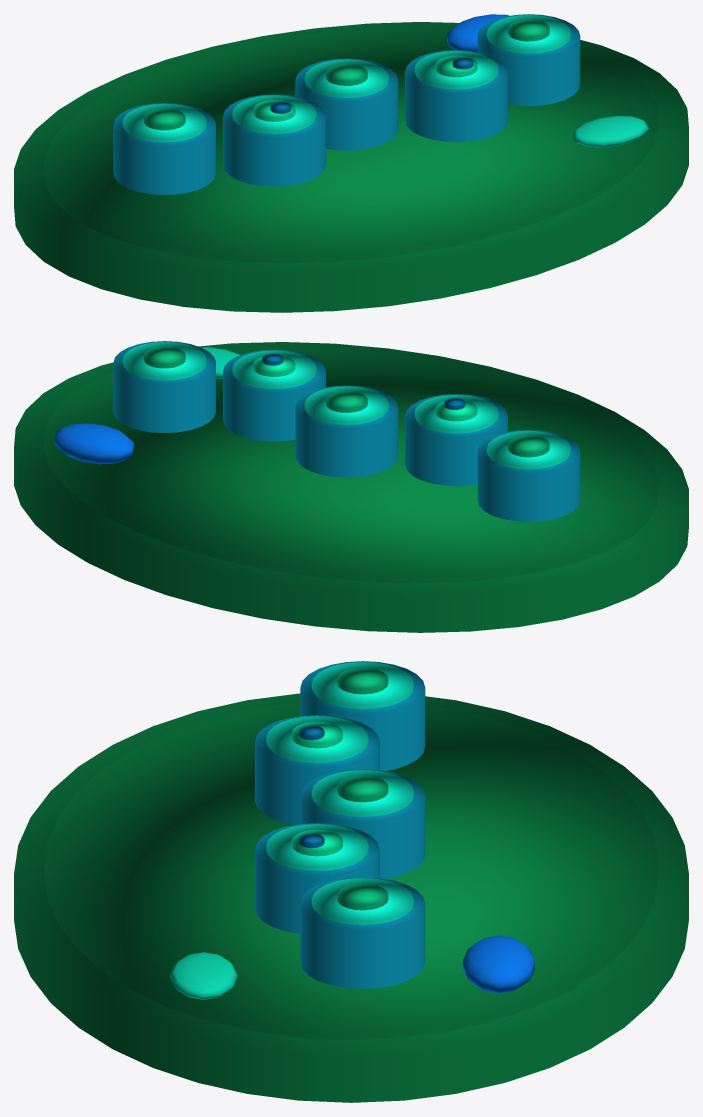
Rendered from maki.glb.
3 views of the same model, one above another, from view 1: azimuth 30°, elevation 25°; view 2: azimuth 150°, elevation 25°; view 3: azimuth 270°, elevation 25° (orthographic). The views are drawn at different scales.
Bounding box in the file's own units: 0.3045 × 0.0535 × 0.2378.
